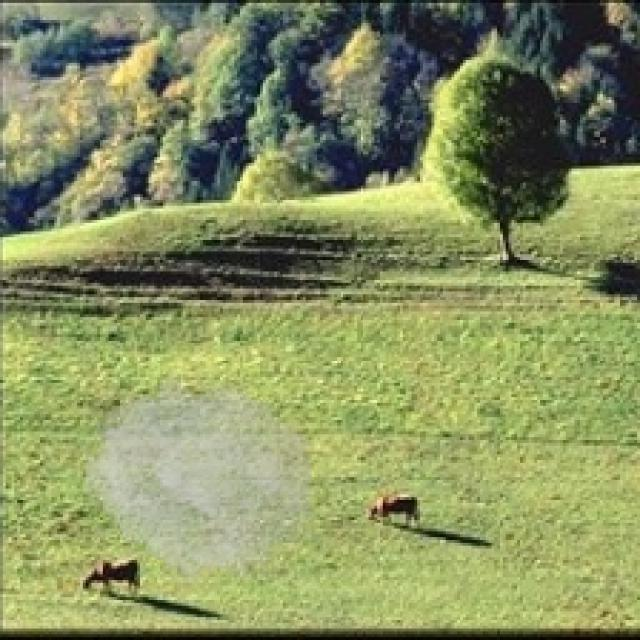Smoke: (86, 372, 312, 588)
